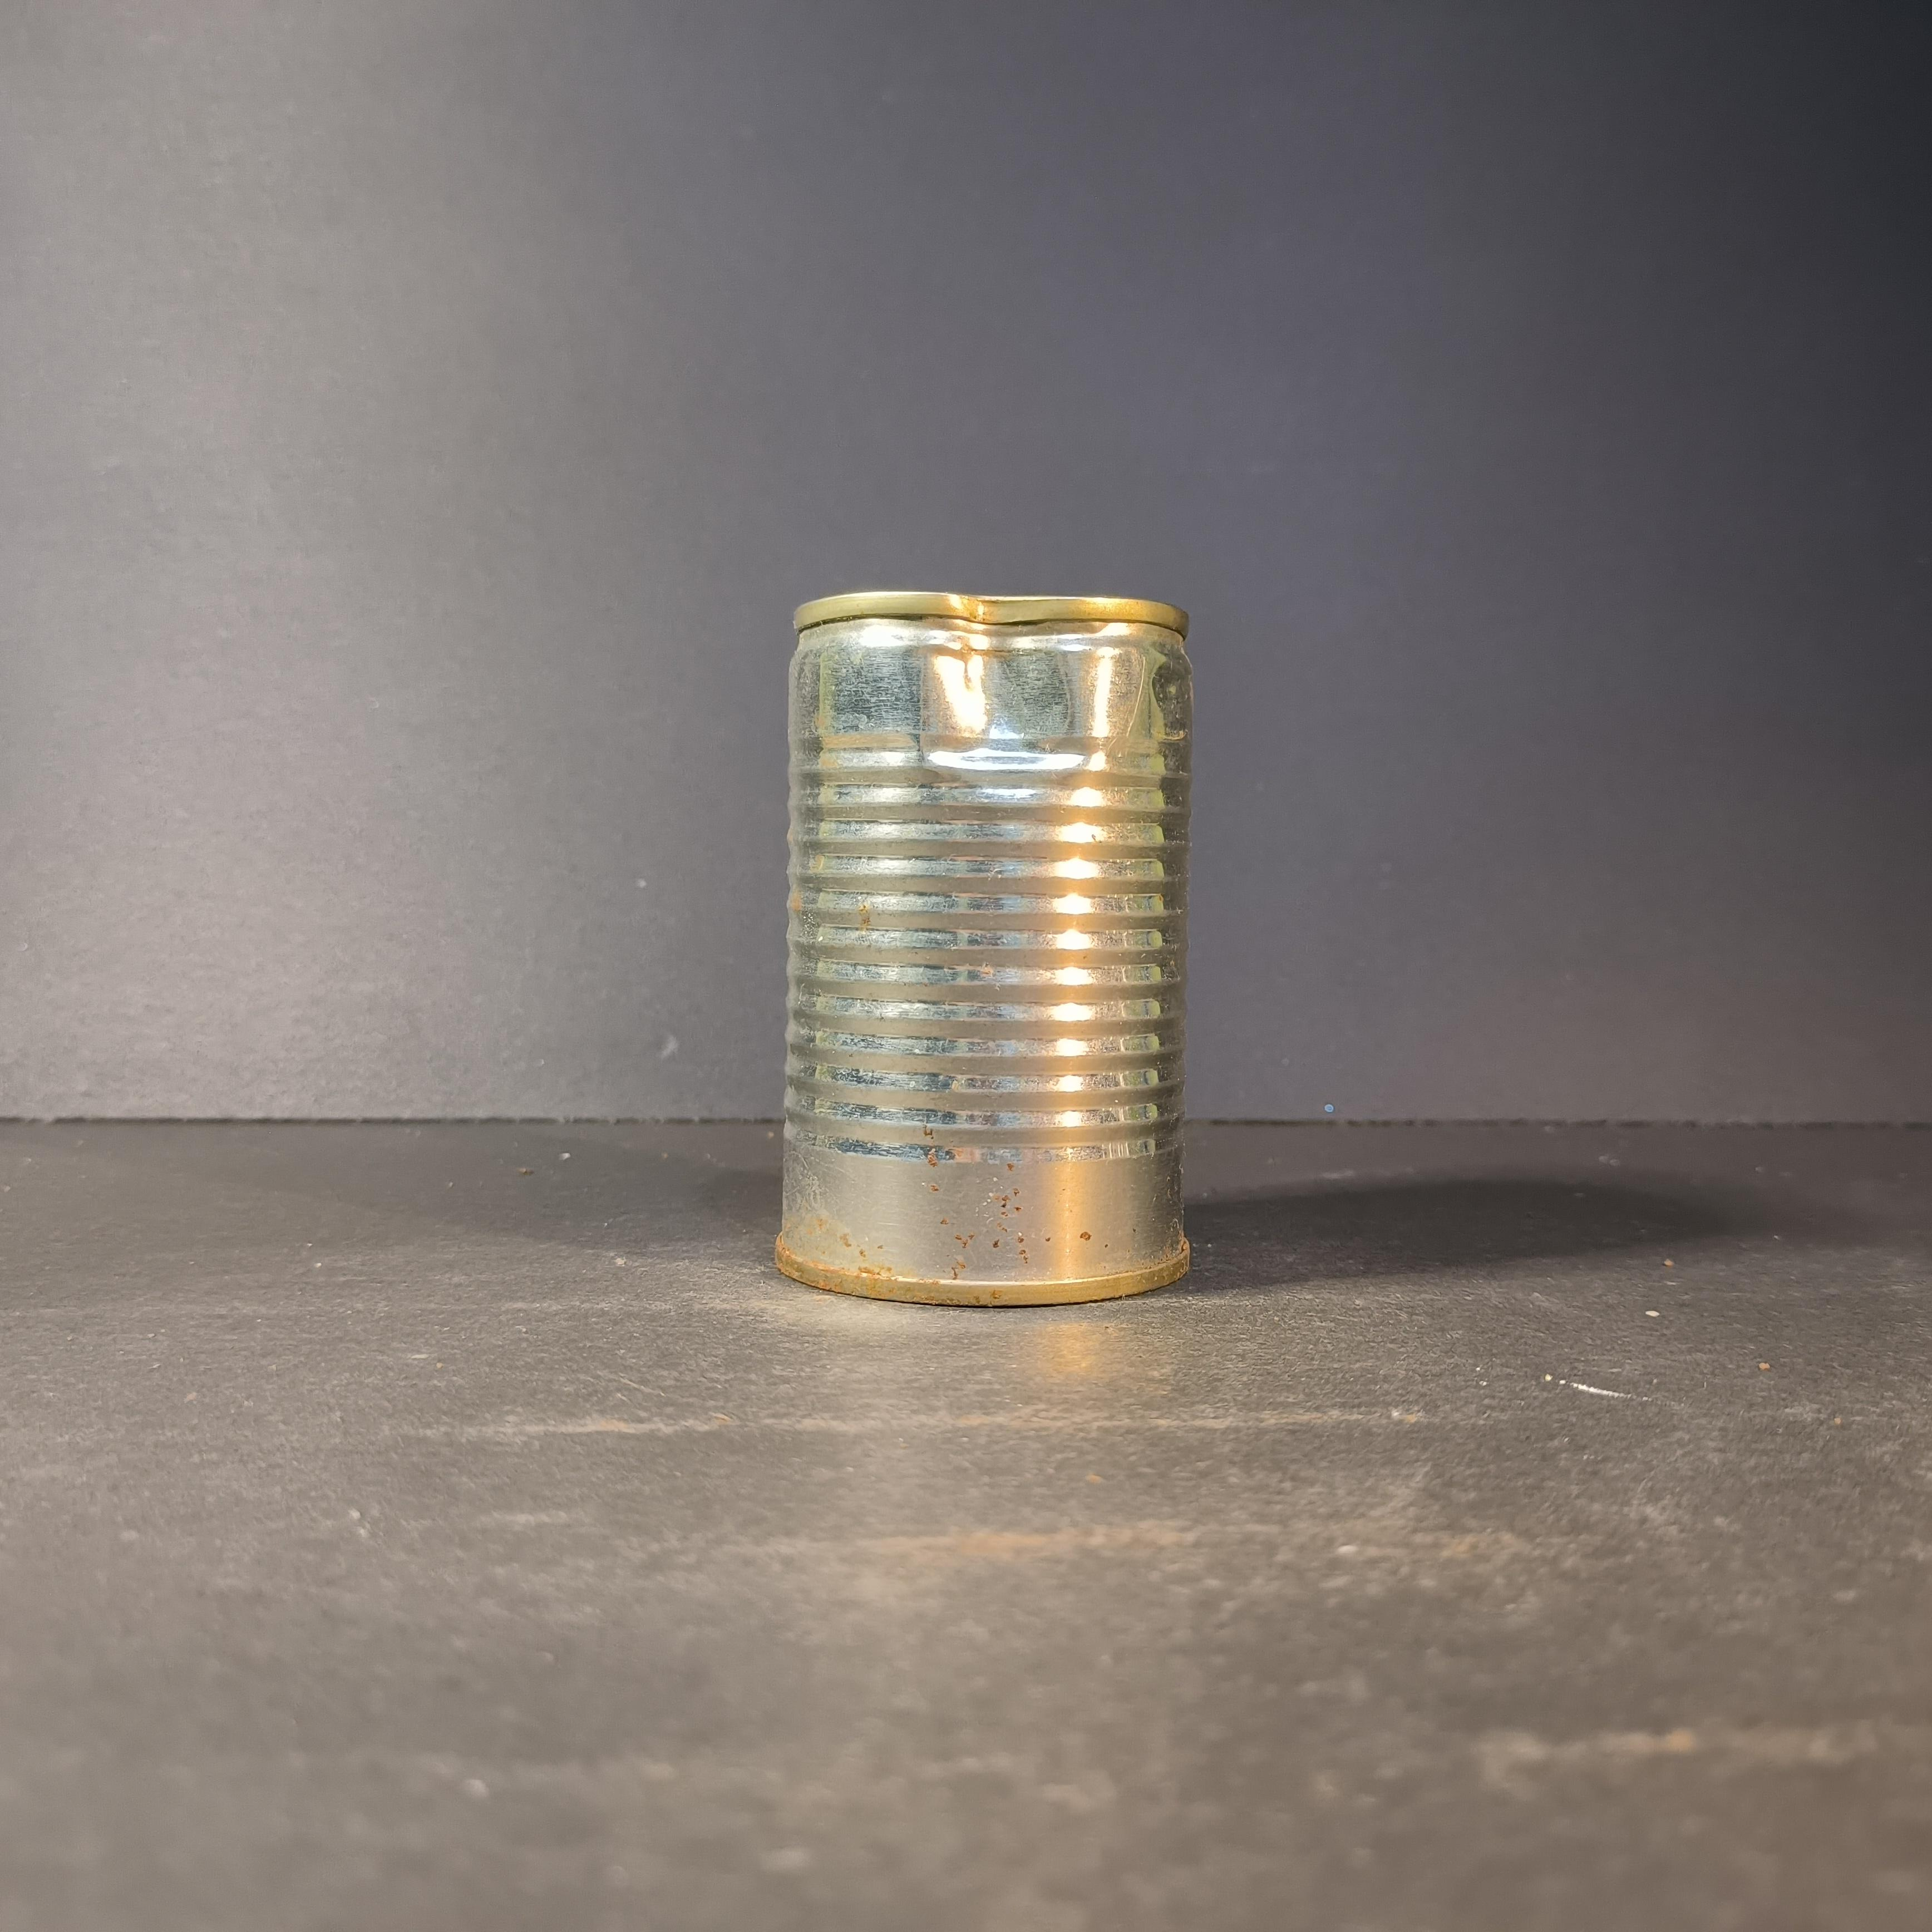Critical Defect: (774, 589, 1197, 1307)
